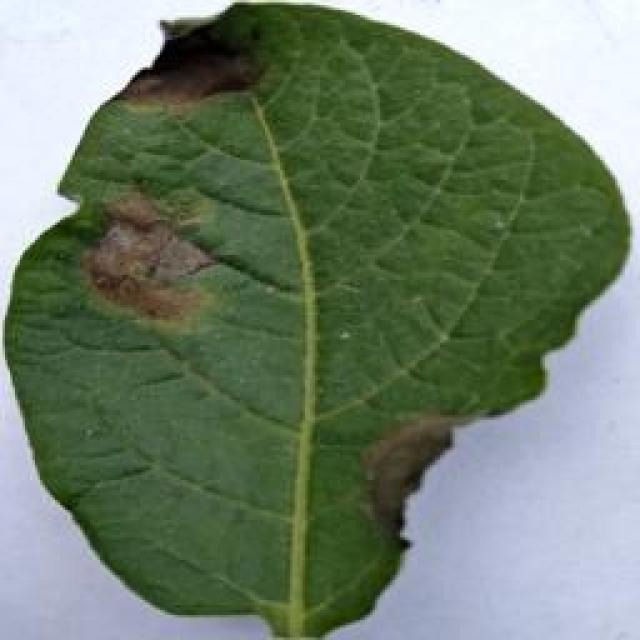Potato_Late_Blight: (6, 9, 633, 634)
